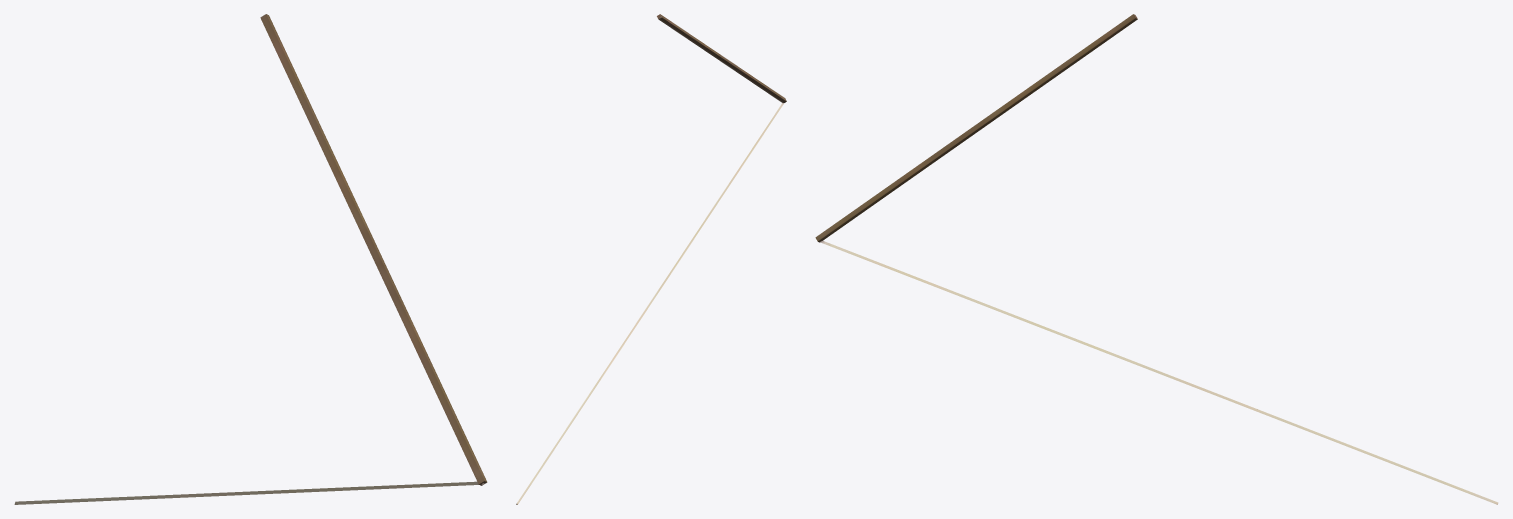
The model's file is life-tool-rod.glb.
3 views of the same model, side by side, from view 1: azimuth 30°, elevation 25°; view 2: azimuth 150°, elevation 25°; view 3: azimuth 270°, elevation 25° (orthographic). The views are drawn at different scales.
Visible parts, largest first — view 1: life-tool-rod; view 2: life-tool-rod; view 3: life-tool-rod.
Boxes of the visible parts, x1,y1,x2,y2 form: life-tool-rod: (14,14,487,504); life-tool-rod: (516,14,786,504); life-tool-rod: (815,14,1498,504).
Bounding box in the file's own units: 0.00601 × 0.4391 × 0.5543.
1 material, 1 textured.
